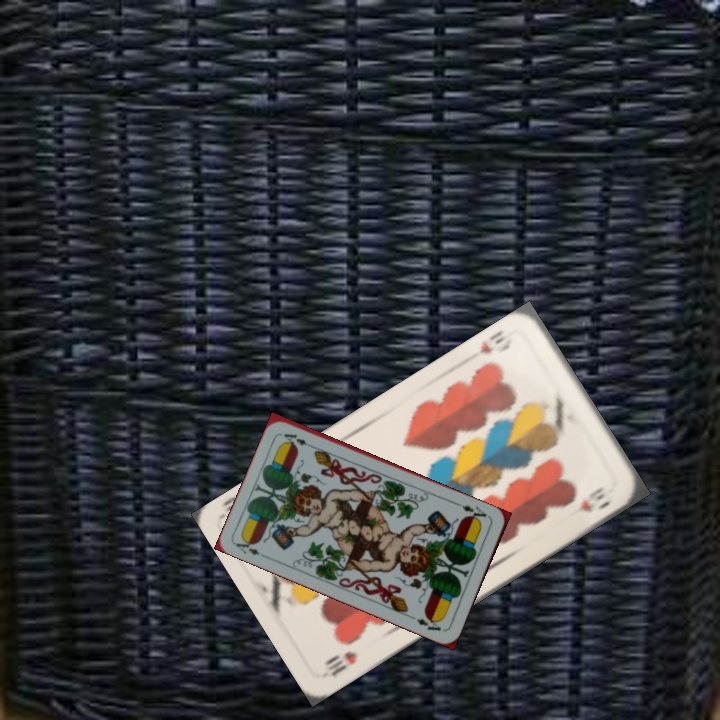EA: (232, 534, 271, 561), (458, 501, 492, 525)
H10: (464, 327, 516, 363), (321, 647, 360, 679)
